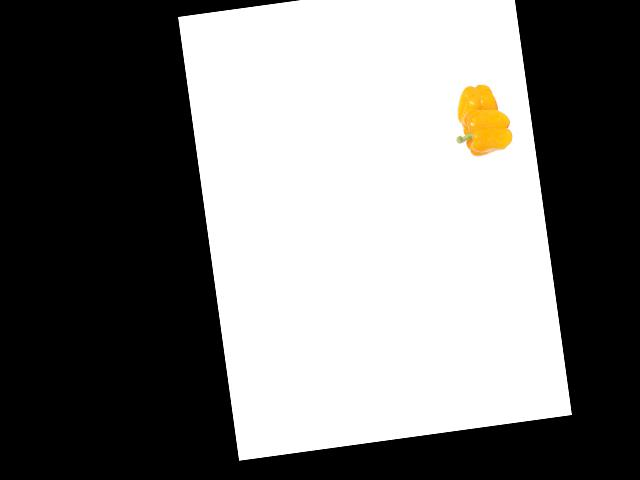bell_pepper: (452, 78, 505, 128)
